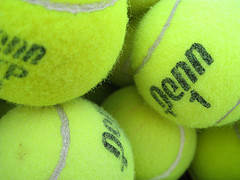tennis ball: (131, 1, 240, 128), (1, 1, 128, 107), (1, 97, 137, 180), (100, 85, 197, 180), (189, 127, 240, 179)
